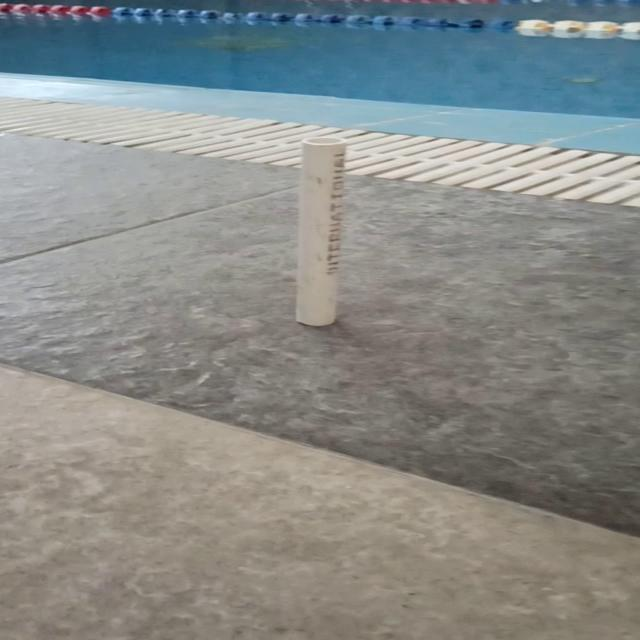Cube: (293, 136, 347, 327)
